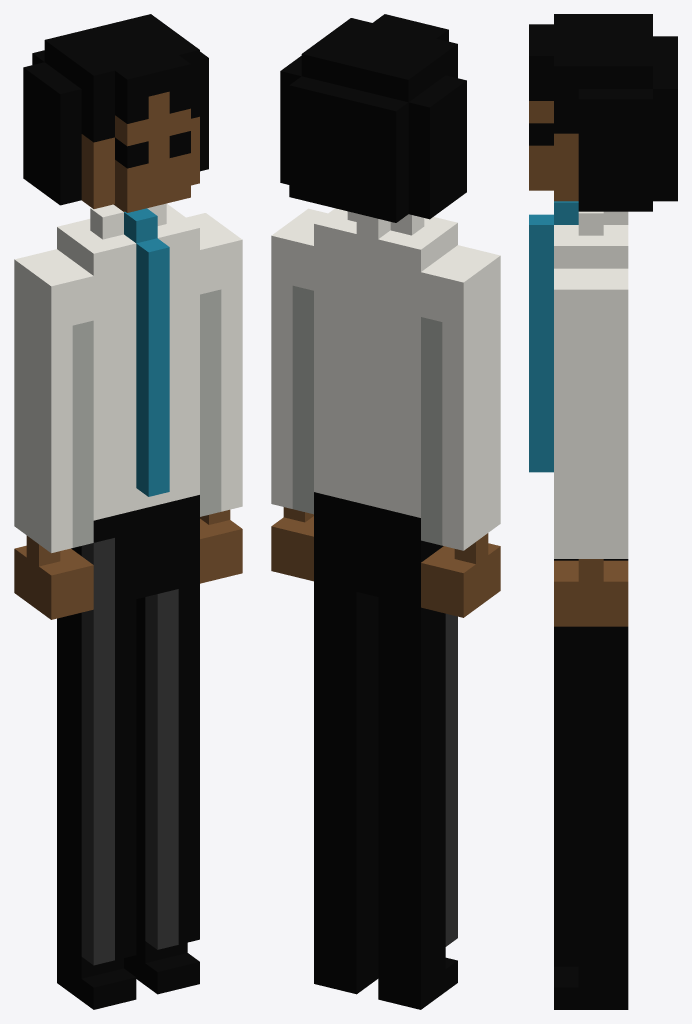
Rendered from officerTwo.obj.
3 views of the same model, side by side, from view 1: azimuth 30°, elevation 25°; view 2: azimuth 150°, elevation 25°; view 3: azimuth 270°, elevation 25° (orthographic).
Visible parts, largest first — view 1: officerTwo; view 2: officerTwo; view 3: officerTwo.
Part boxes in pixels (x1,y1,x2,y2): officerTwo: [14, 14, 242, 1009]; officerTwo: [271, 14, 500, 1009]; officerTwo: [529, 14, 677, 1009].
Bounding box in the file's own units: 9 × 42 × 6.
Materials: 1 (1 with a texture image).
